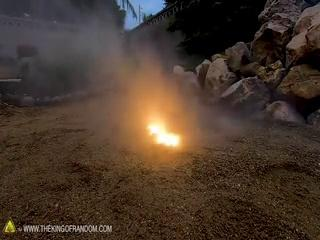Fire: (132, 107, 187, 150)
